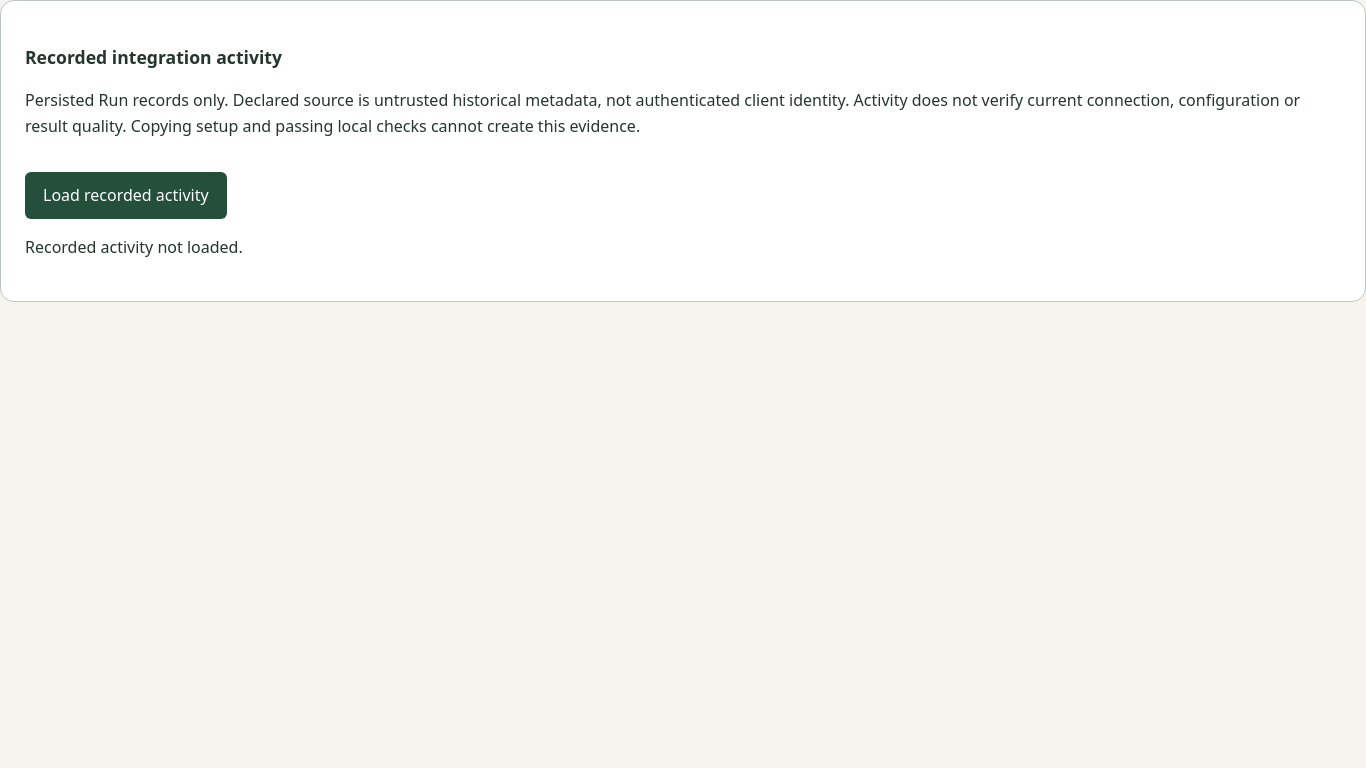
it: disconnect cancels late results without replay; retained records stay stale and removed Tasks cannot navigate
Later steps or results of the test are not shown.
Click the button "Load recorded activity".
click(126, 195)  # box [25,172,227,219]
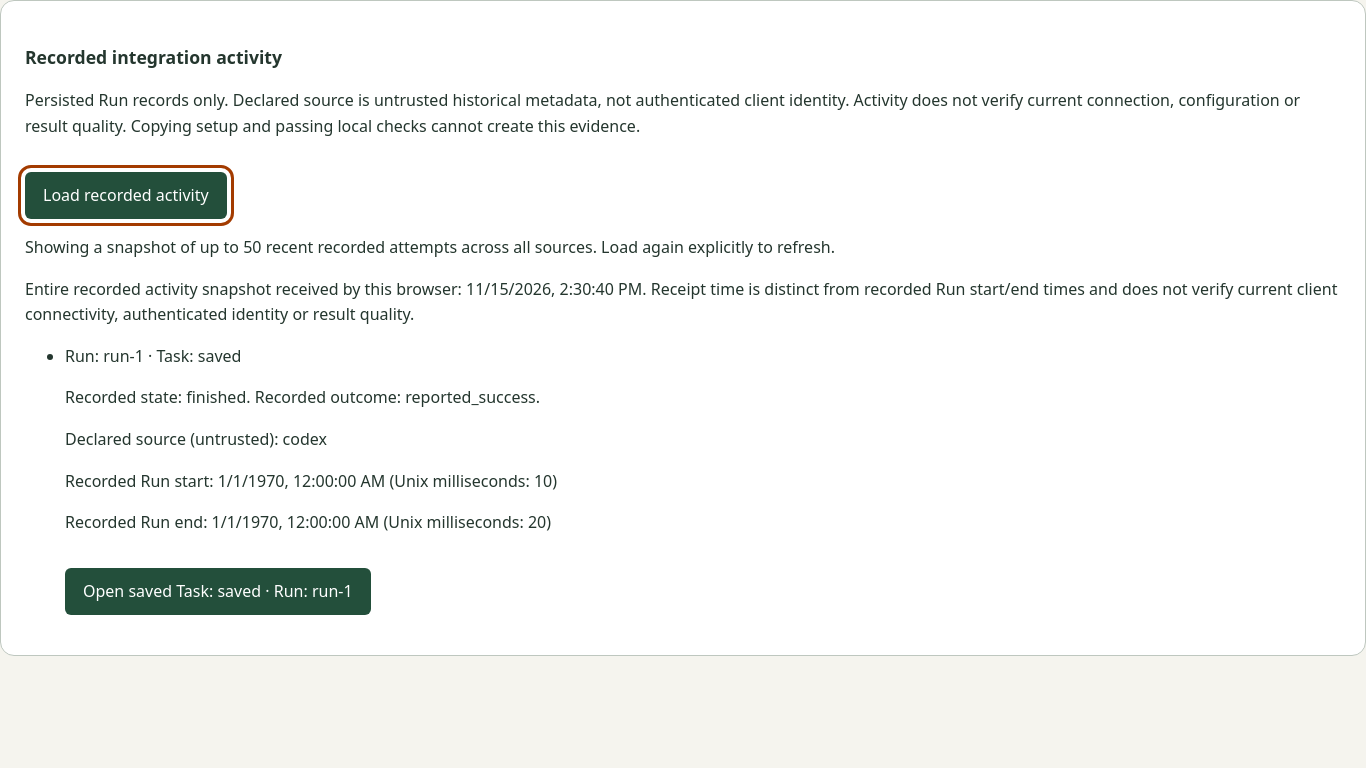
Now the text "Run: run-1 · Task: saved" is shown, box [65,345,241,367]
Click the button "Load recorded activity".
click(126, 195)  # box [25,172,227,219]
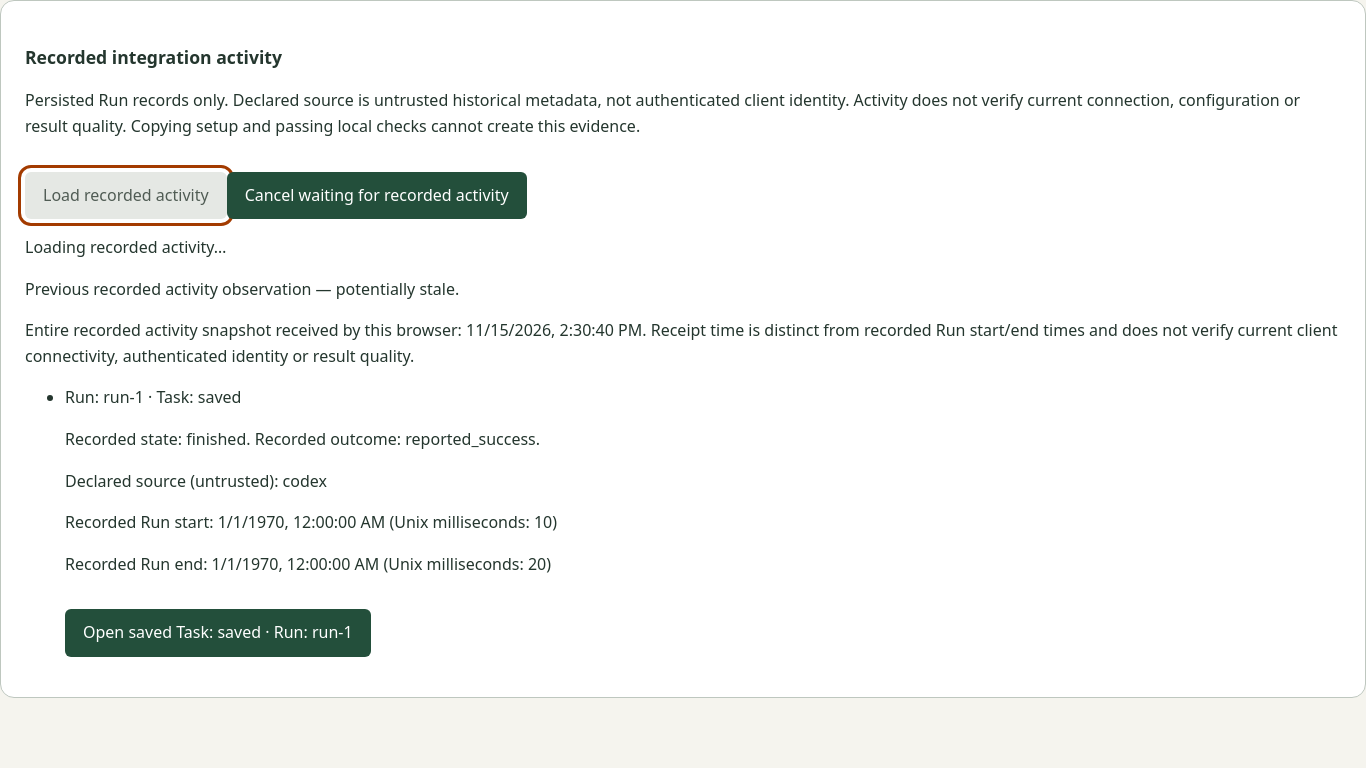
Now the text "Loading recorded activity…" is shown, box [25,236,226,258]
